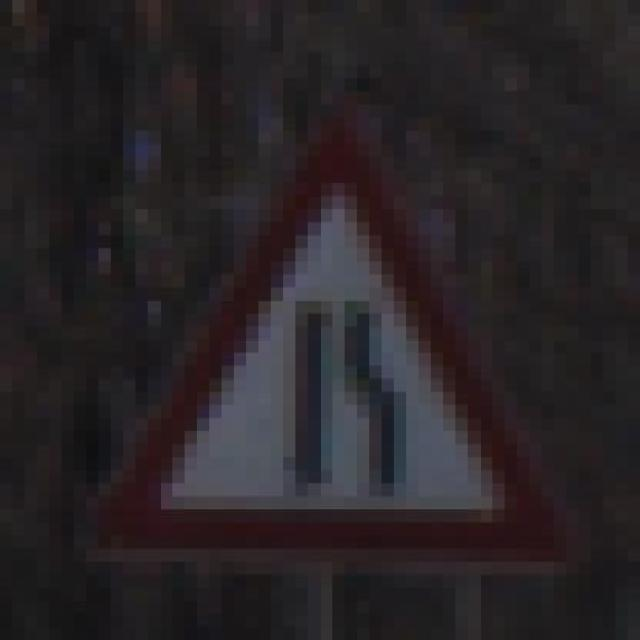-Road narrows on right: (98, 103, 591, 574)
